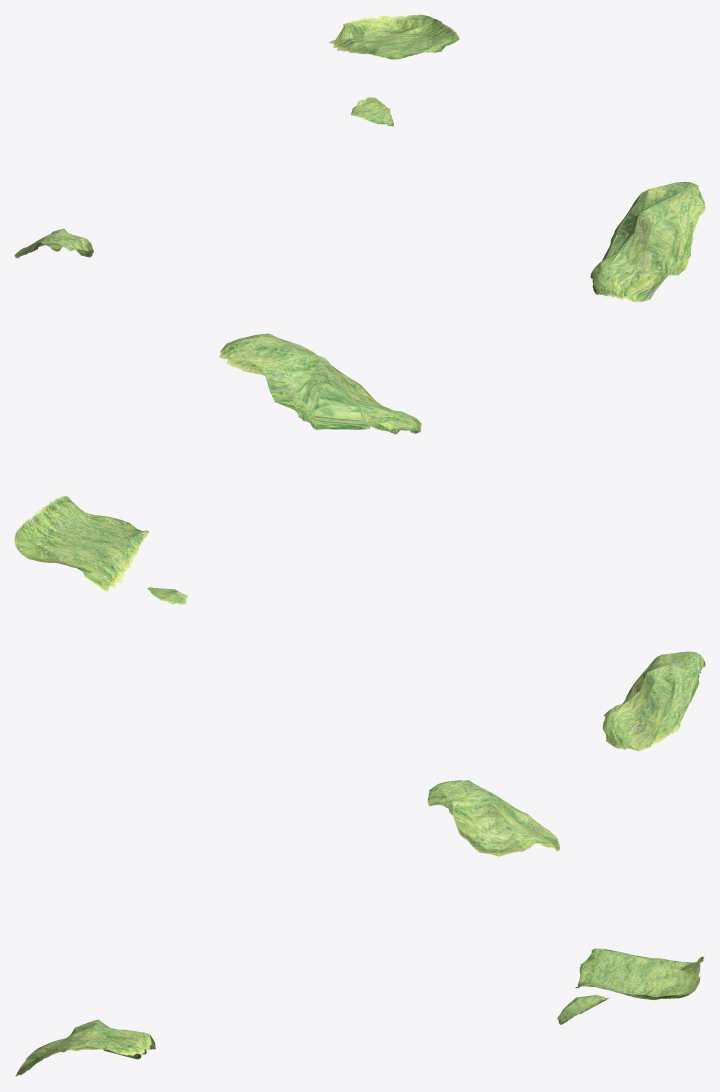
File: pasto_plano_17.glb
The picture shows the model from 3 angles, top to bottom: view 1: azimuth 30°, elevation 25°; view 2: azimuth 150°, elevation 25°; view 3: azimuth 270°, elevation 25°; orthographic projection. The views are drawn at different scales.
Parts seen in each view (by area): view 1: Plane.017; view 2: Plane.017; view 3: Plane.017.
Part boxes in pixels (x1=…): Plane.017: x1=14, y1=14, x2=705, y2=302; Plane.017: x1=14, y1=333, x2=705, y2=751; Plane.017: x1=15, y1=780, x2=704, y2=1076.
Bounding box in the file's own units: 444 × 83.73 × 408.
1 material, 1 textured.
